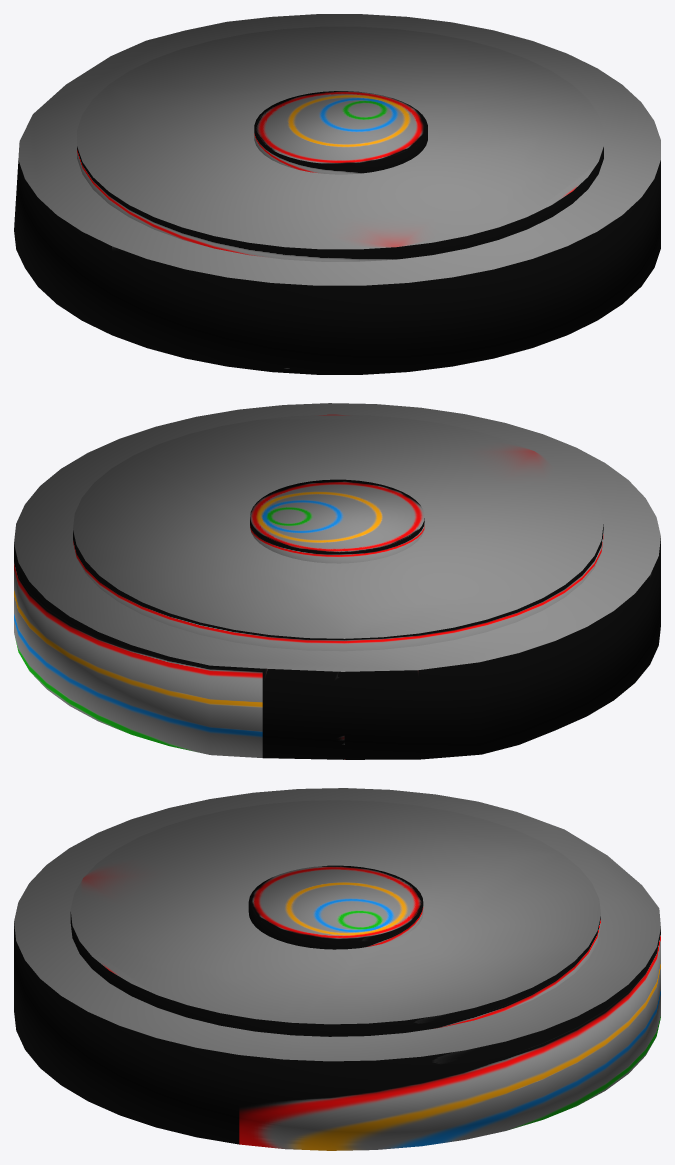
File: roombajderbotgrey.glb
3 renders of one model, top to bottom at view 1: azimuth 30°, elevation 25°; view 2: azimuth 150°, elevation 25°; view 3: azimuth 270°, elevation 25°, orthographic.
Visible parts, largest first — view 1: Cylinder; view 2: Cylinder; view 3: Cylinder.
Boxes of the visible parts, x1,y1,x2,y2 form: Cylinder: [14, 14, 660, 374]; Cylinder: [14, 403, 660, 759]; Cylinder: [14, 788, 660, 1150].
Size of the model in its own units: 2 by 0.52 by 2.
Materials: 3 (1 with a texture image).
